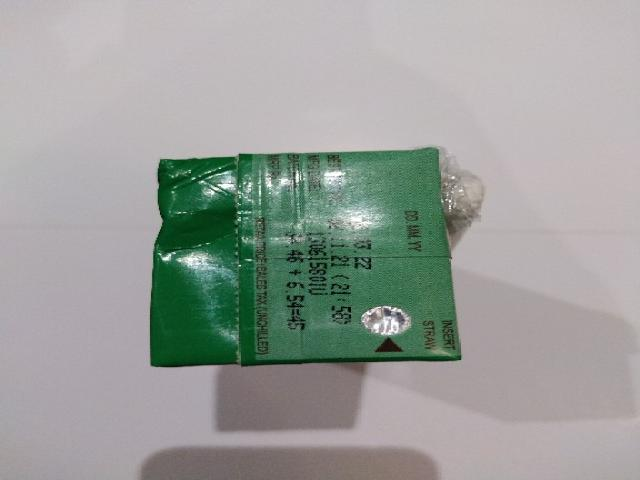drink_box: (144, 144, 484, 368)
